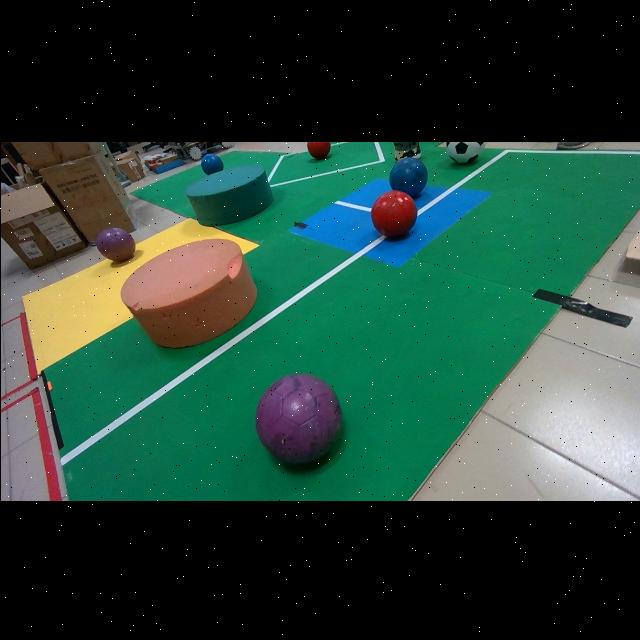B: (389, 156, 427, 195), (200, 152, 223, 173)
P: (254, 372, 341, 462), (95, 226, 134, 260)
R: (370, 189, 416, 236), (306, 140, 329, 156)
